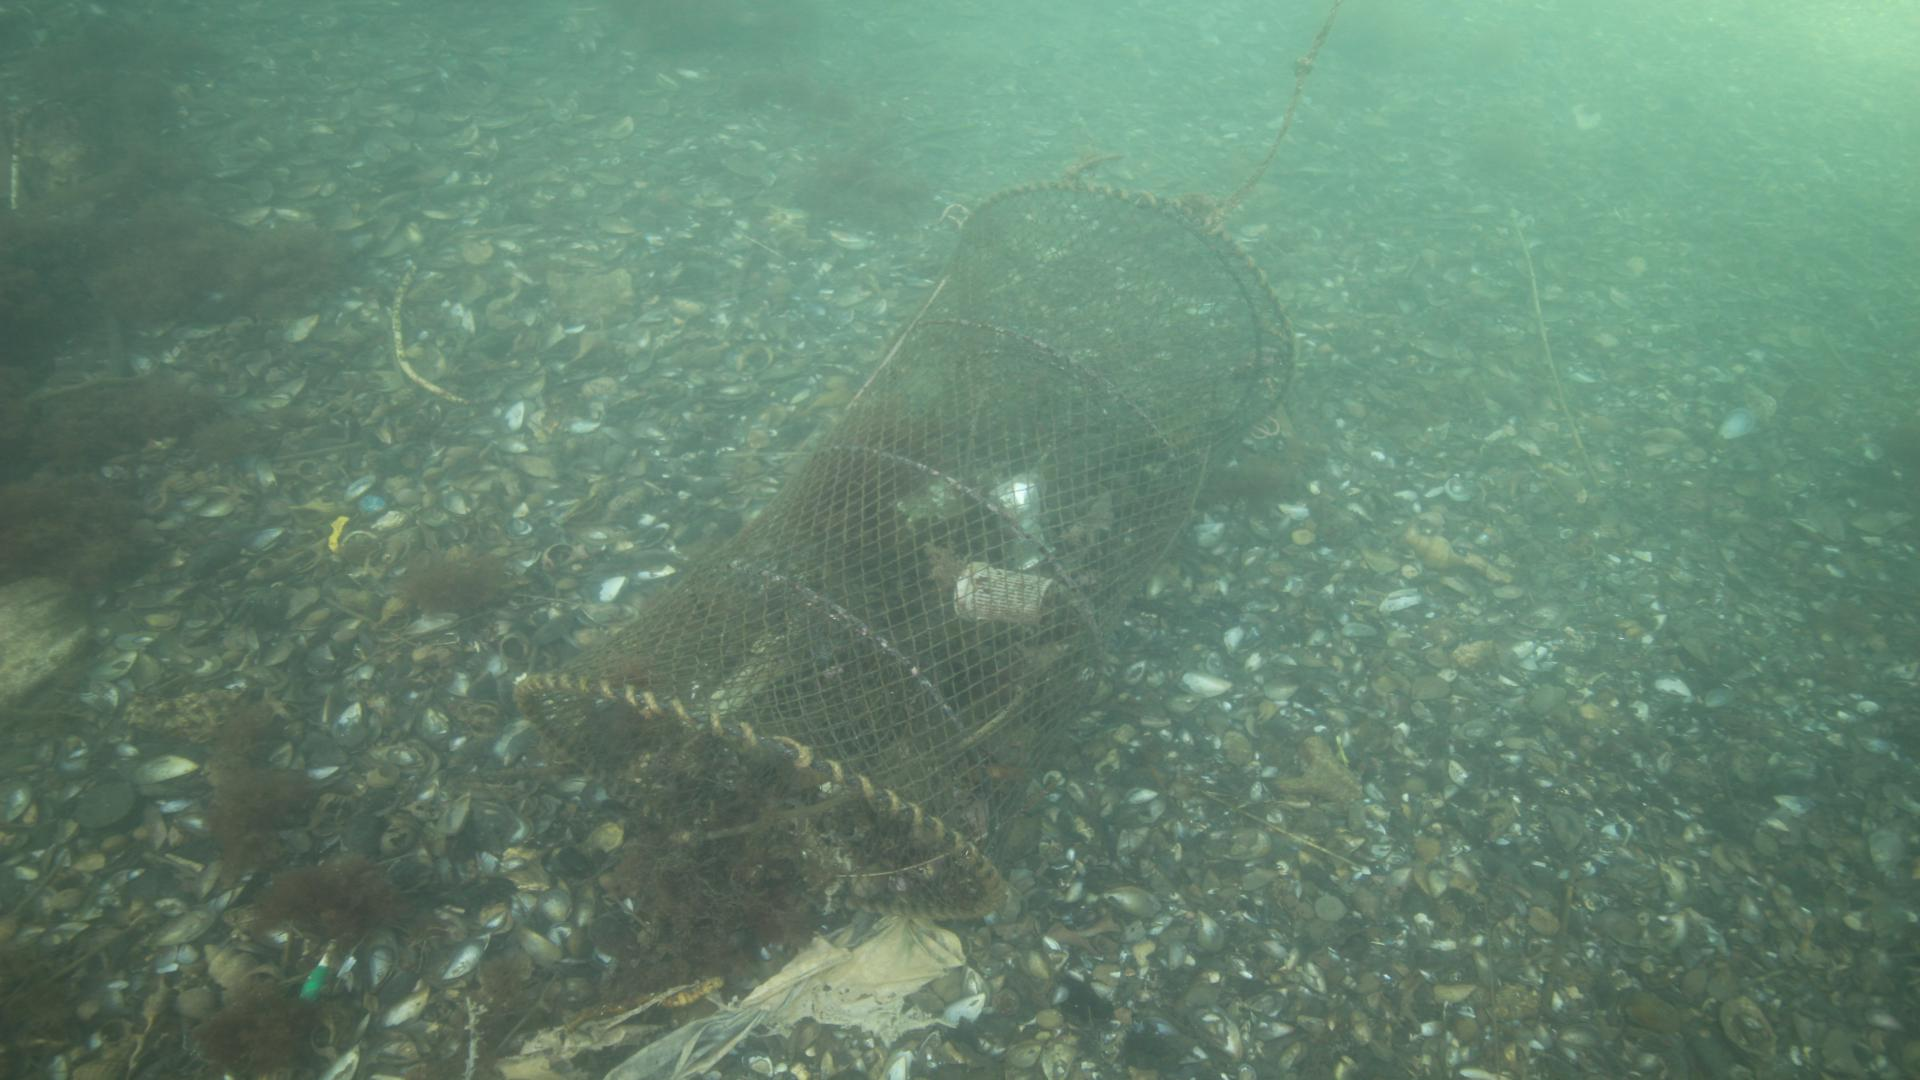rope: (1203, 0, 1346, 215)
spring fish trap: (510, 175, 1295, 918)
